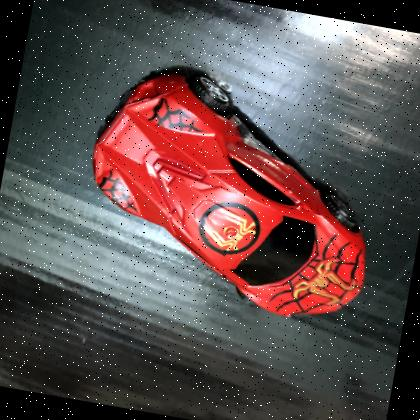Car: (91, 67, 367, 317)
